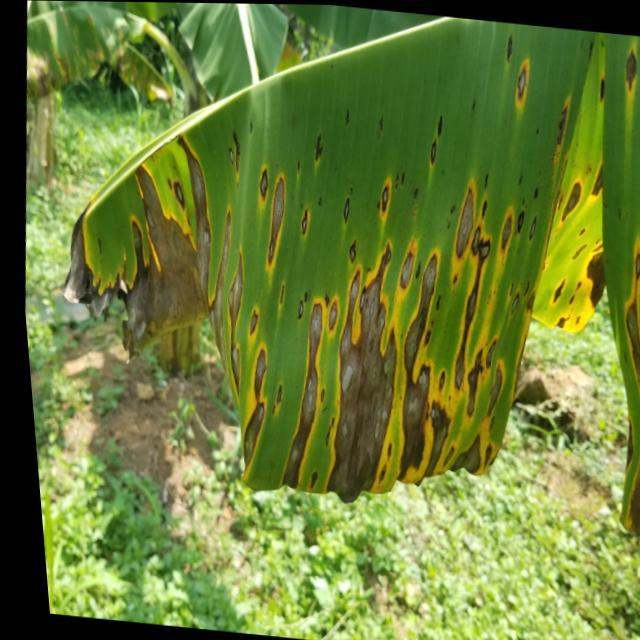Early_rust: (98, 59, 640, 545), (0, 8, 147, 93)
